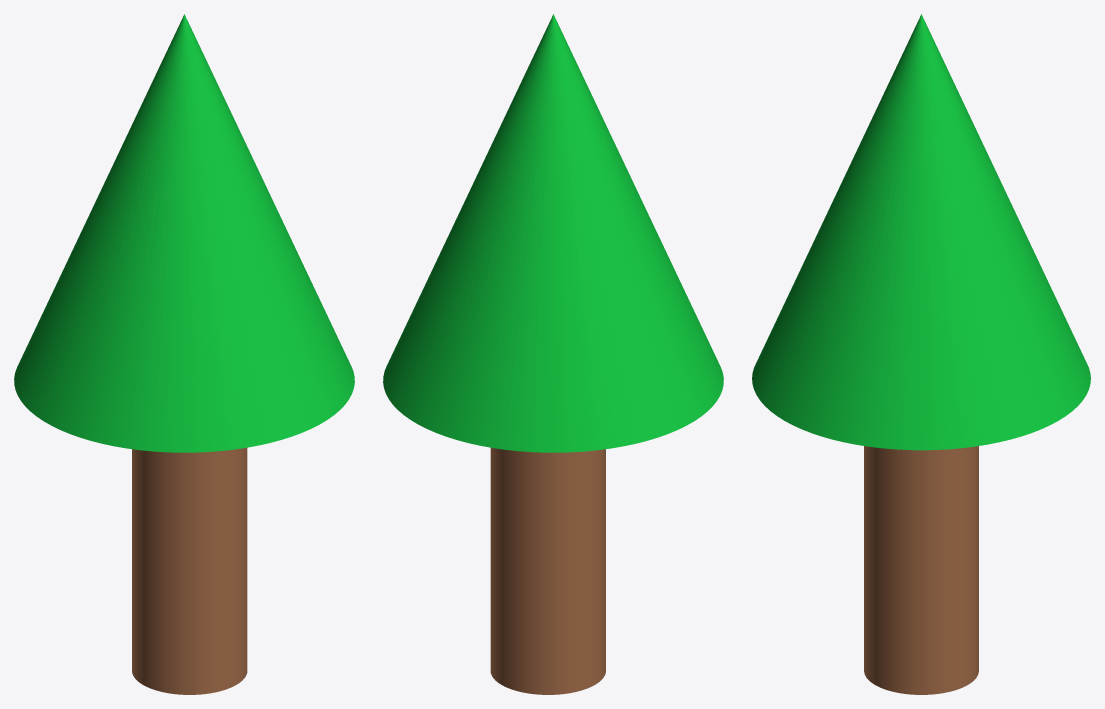
Rendered from tree.fbx.
The picture shows the model from 3 angles, left to right: view 1: azimuth 30°, elevation 25°; view 2: azimuth 150°, elevation 25°; view 3: azimuth 270°, elevation 25°; orthographic projection.
Parts seen in each view (by area): view 1: root (×2); view 2: root (×2); view 3: root (×2).
Part boxes in pixels (bbox=[...]): root (×2): bbox=[14, 14, 354, 694]; root (×2): bbox=[383, 14, 723, 694]; root (×2): bbox=[752, 14, 1090, 694].
Size of the model in its own units: 0.3054 by 0.6504 by 0.3054.
Materials: 2 (2 with a texture image).
